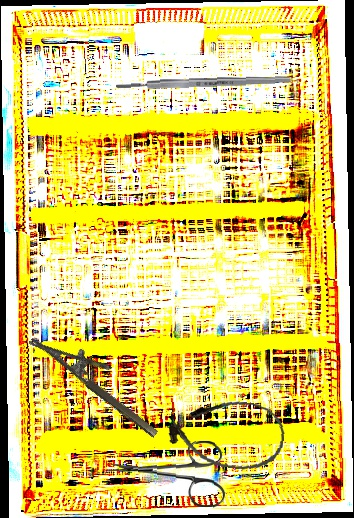Cannula: (164, 392, 289, 475)
Iris Scissors: (105, 435, 228, 509)
Needle Holder: (28, 317, 172, 440)
Scalpel Handle: (115, 74, 291, 92)
